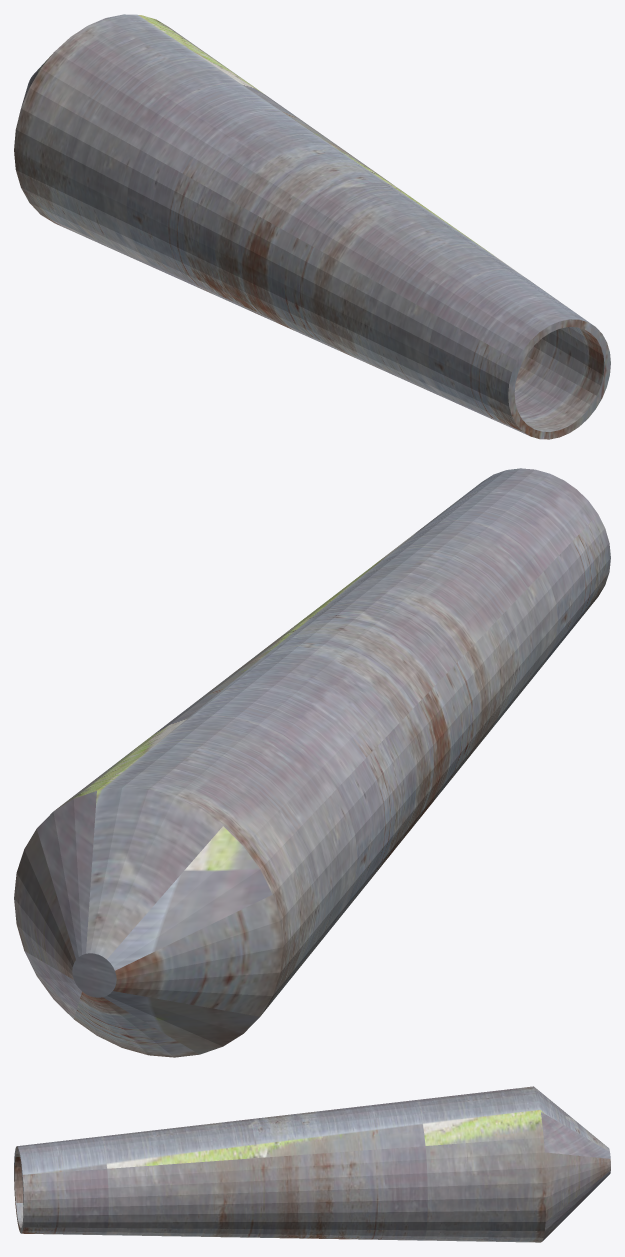
The model's file is Kanonenrohr.fbx.
The picture shows the model from 3 angles, top to bottom: view 1: azimuth 30°, elevation 25°; view 2: azimuth 150°, elevation 25°; view 3: azimuth 270°, elevation 25°; orthographic projection. The views are drawn at different scales.
Parts seen in each view (by area): view 1: Kanone; view 2: Kanone; view 3: Kanone.
Part boxes in pixels (x1,y1,x2,y2): Kanone: [14, 14, 610, 439]; Kanone: [14, 468, 610, 1057]; Kanone: [14, 1086, 610, 1242].
Bounding box in the file's own units: 2.32 × 2 × 7.63.
1 material, 1 textured.
